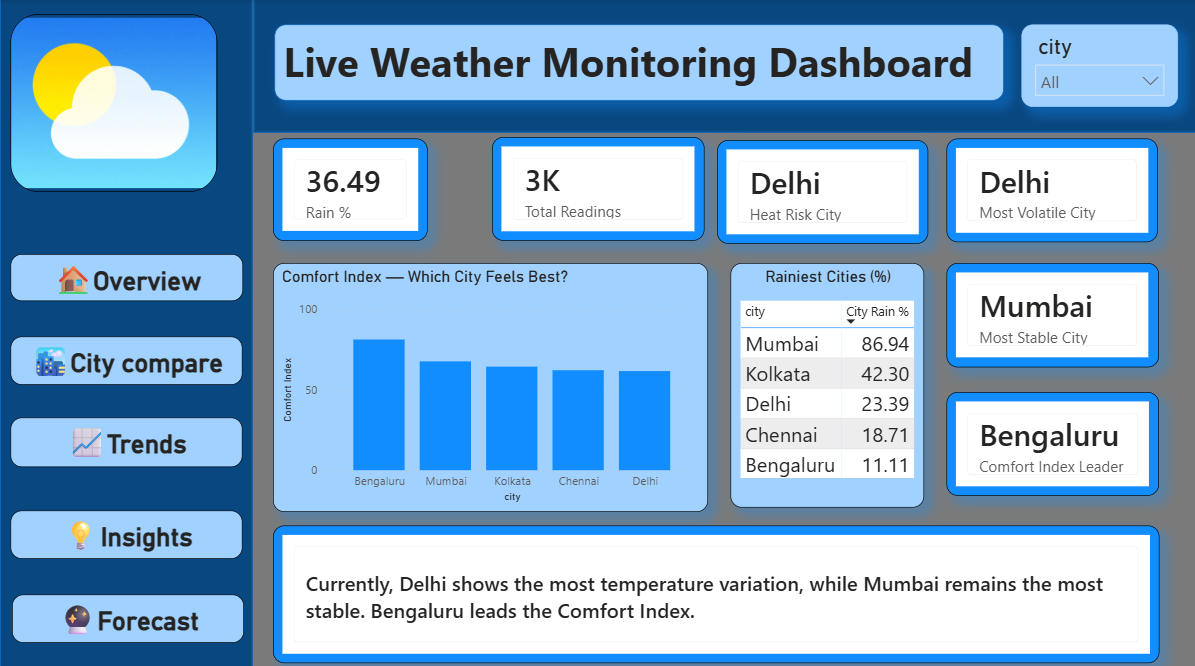

This screenshot's page, from the dashboard's own definition file:
{"tool":"powerbi","page":{"name":"Insights","canvas":[1280,720],"ordinal":3},"visuals":[{"type":"shape","box":[268.3,0,1012.9,141.7],"z":0},{"type":"shape","box":[0,0,267.9,712.5],"z":1000},{"type":"cardVisual","fields":{"Data":["weather_log.Most Stable City"]},"box":[1003.7,279.9,225,110.7],"z":2000},{"type":"cardVisual","fields":{"Data":["weather_log.City Rain %"]},"box":[289.3,148.2,164.3,108.9],"z":3000},{"type":"slicer","fields":{"Values":["weather_log.city"]},"box":[1083.9,26.8,166.1,87.5],"z":4000},{"type":"cardVisual","fields":{"Data":["weather_log.Total Readings"]},"box":[521.4,146.4,225,110],"z":5000},{"type":"textbox","box":[291.1,26.8,773.2,80.4],"z":6000},{"type":"actionButton","title":"\t🏠Overview","box":[10.7,269.6,246.4,50],"z":7000},{"type":"actionButton","title":"🏙️City compare","box":[11.3,357.2,245.7,51],"z":8000},{"type":"actionButton","title":"📈Trends ","box":[11.3,444.1,245.7,52.9],"z":9000},{"type":"actionButton","title":"💡Insights","box":[11.3,542.4,245.7,51],"z":10000},{"type":"image","box":[11.3,15.1,219.2,189],"z":11000},{"type":"cardVisual","fields":{"Data":["weather_log.Most Volatile City"]},"box":[1003.7,147.9,224,110],"z":12000},{"type":"columnChart","title":"Comfort Index — Which City Feels Best?","fields":{"Category":["weather_log.city"],"Y":["weather_log.Comfort Index"]},"box":[290,280,461.3,264],"z":13000},{"type":"tableEx","title":"Rainiest Cities (%)","fields":{"Values":["weather_log.city","weather_log.City Rain %"]},"box":[774,280,205.2,259.3],"z":14000},{"type":"cardVisual","fields":{"Data":["weather_log.Comfort Index Leader"]},"box":[1003.7,416.7,225,110],"z":15000},{"type":"cardVisual","fields":{"Data":["weather_log.Insight Text"]},"box":[290,558,940,146],"z":16000},{"type":"actionButton","title":"🔮Forecast","box":[12,632,245.7,51],"z":17000},{"type":"cardVisual","fields":{"Data":["forecast_log.Heat Risk City"]},"box":[760.3,149.5,224,110],"z":18000}]}

Visuals, with their boxes in screenshot pixels (x1, y1, x2, y2), scaled from the page's 1280x720 canvas onto the 1195x666 screenshot:
shape: <bbox>250, 0, 1194, 131</bbox>
shape: <bbox>0, 0, 250, 659</bbox>
cardVisual - weather_log.Most Stable City: <bbox>937, 259, 1147, 361</bbox>
cardVisual - weather_log.City Rain %: <bbox>270, 137, 423, 238</bbox>
slicer - weather_log.city: <bbox>1012, 25, 1167, 106</bbox>
cardVisual - weather_log.Total Readings: <bbox>487, 135, 697, 237</bbox>
textbox: <bbox>272, 25, 994, 99</bbox>
"	🏠Overview" actionButton: <bbox>10, 249, 240, 296</bbox>
"🏙️City compare" actionButton: <bbox>11, 330, 240, 378</bbox>
"📈Trends " actionButton: <bbox>11, 411, 240, 460</bbox>
"💡Insights" actionButton: <bbox>11, 502, 240, 549</bbox>
image: <bbox>11, 14, 215, 189</bbox>
cardVisual - weather_log.Most Volatile City: <bbox>937, 137, 1146, 239</bbox>
"Comfort Index — Which City Feels Best?" columnChart: <bbox>271, 259, 701, 503</bbox>
"Rainiest Cities (%)" tableEx: <bbox>723, 259, 914, 499</bbox>
cardVisual - weather_log.Comfort Index Leader: <bbox>937, 385, 1147, 487</bbox>
cardVisual - weather_log.Insight Text: <bbox>271, 516, 1148, 651</bbox>
"🔮Forecast" actionButton: <bbox>11, 585, 241, 632</bbox>
cardVisual - forecast_log.Heat Risk City: <bbox>710, 138, 919, 240</bbox>
